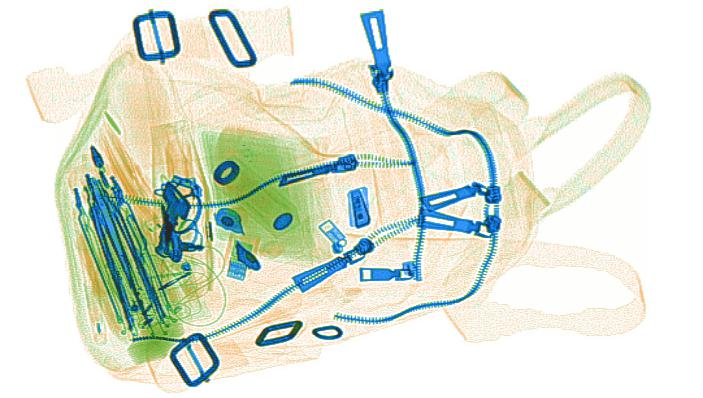USBFlashDisk: (224, 236, 255, 282)
